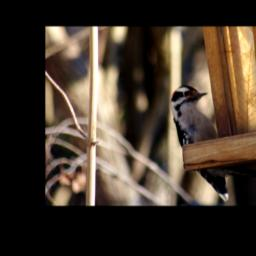Woodpecker: (171, 85, 256, 200)
